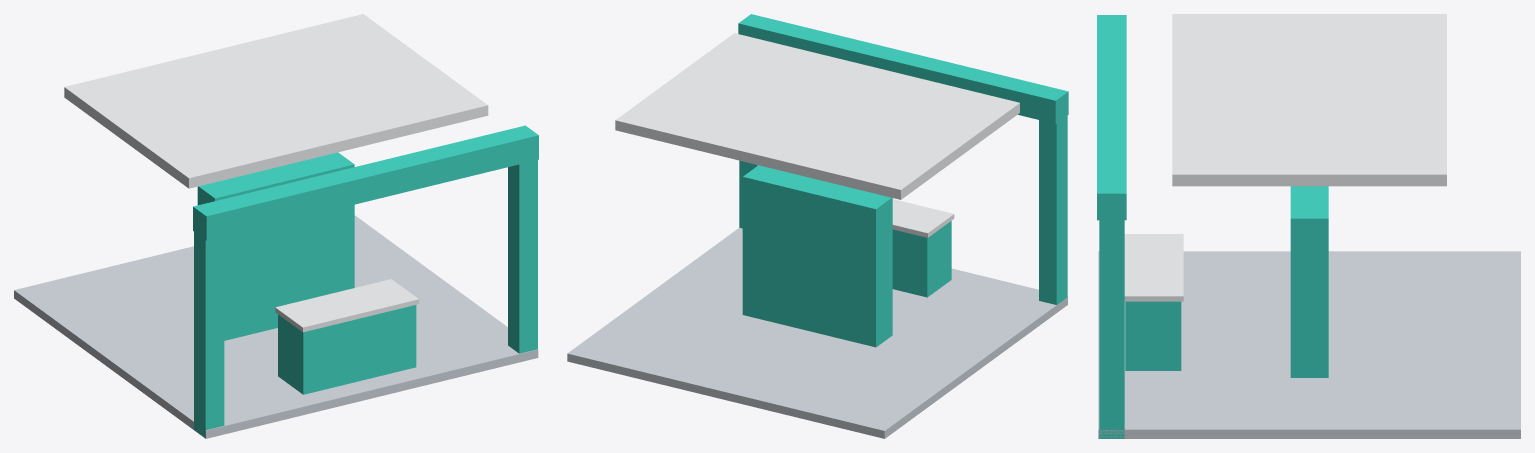
3 views of the same model, side by side, from view 1: azimuth 30°, elevation 25°; view 2: azimuth 150°, elevation 25°; view 3: azimuth 270°, elevation 25° (orthographic). The views are drawn at different scales.
Visible parts, largest first — view 1: Exhibition Booth Concept; view 2: Exhibition Booth Concept; view 3: Exhibition Booth Concept.
Boxes of the visible parts, left/top/right/bottom form: Exhibition Booth Concept: left=14, top=14, right=538, bottom=438; Exhibition Booth Concept: left=567, top=14, right=1068, bottom=438; Exhibition Booth Concept: left=1097, top=14, right=1520, bottom=438.
Size of the model in its own units: 5 by 3.34 by 5.02.
